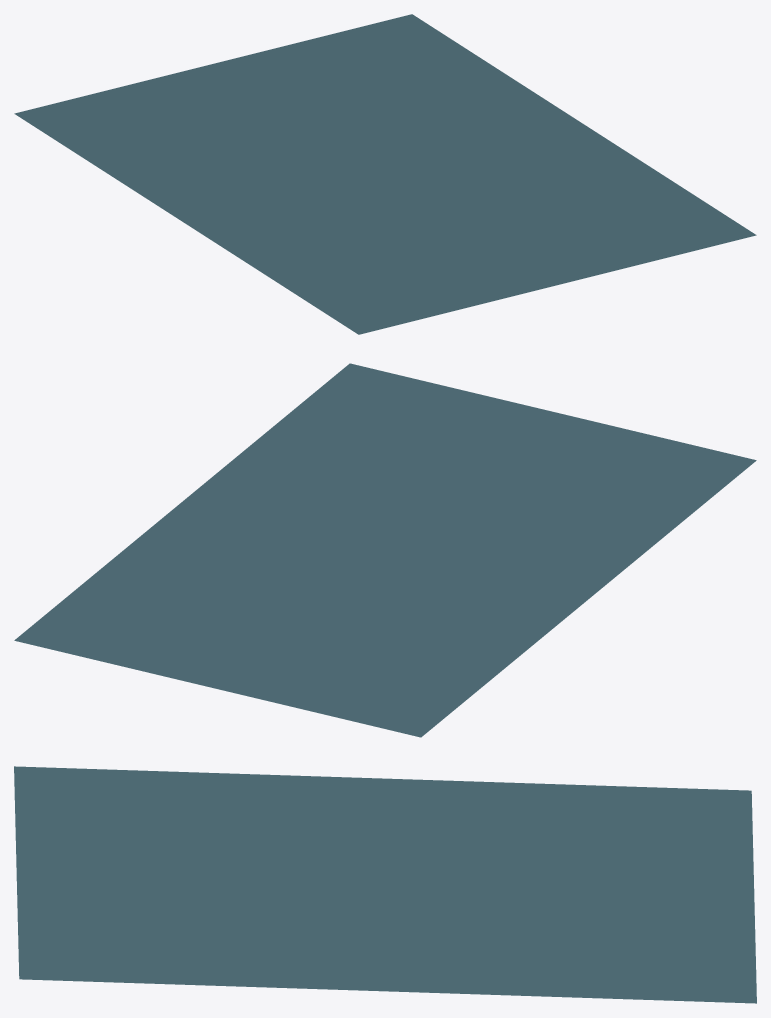
File: PantallaMovil.FBX
The picture shows the model from 3 angles, top to bottom: view 1: azimuth 30°, elevation 25°; view 2: azimuth 150°, elevation 25°; view 3: azimuth 270°, elevation 25°; orthographic projection. The views are drawn at different scales.
Visible parts, largest first — view 1: PantallaMovil; view 2: PantallaMovil; view 3: PantallaMovil.
Part boxes in pixels (<box>): PantallaMovil: <box>14,14,756,334</box>; PantallaMovil: <box>14,363,756,737</box>; PantallaMovil: <box>14,766,756,1003</box>.
Bounding box in the file's own units: 0.327 × 0.0193 × 0.4749.
